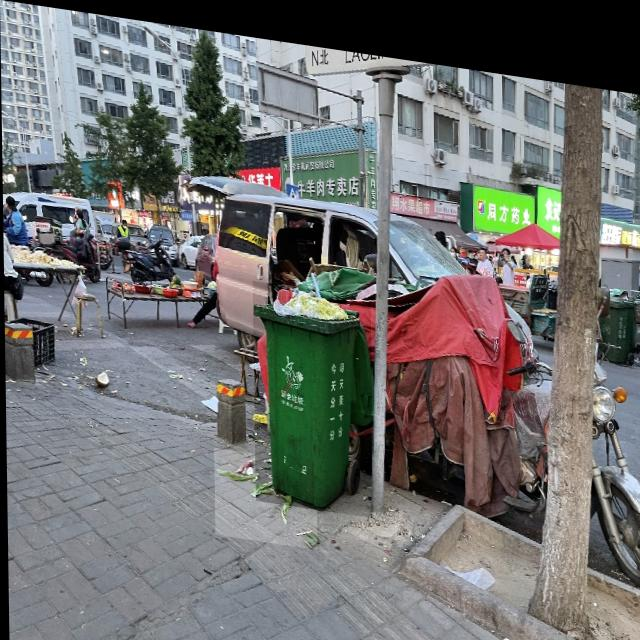garbage: (213, 441, 316, 540)
overflow: (252, 273, 373, 507)
